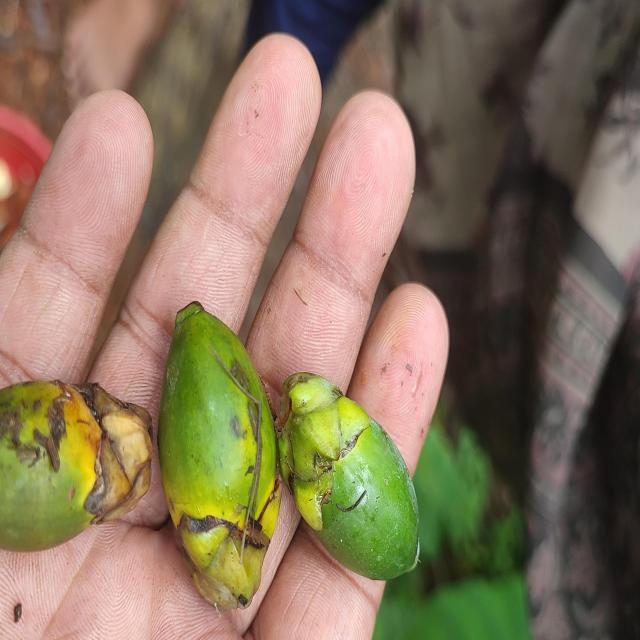damaged: (157, 304, 281, 614), (0, 382, 168, 555), (285, 375, 419, 580)
